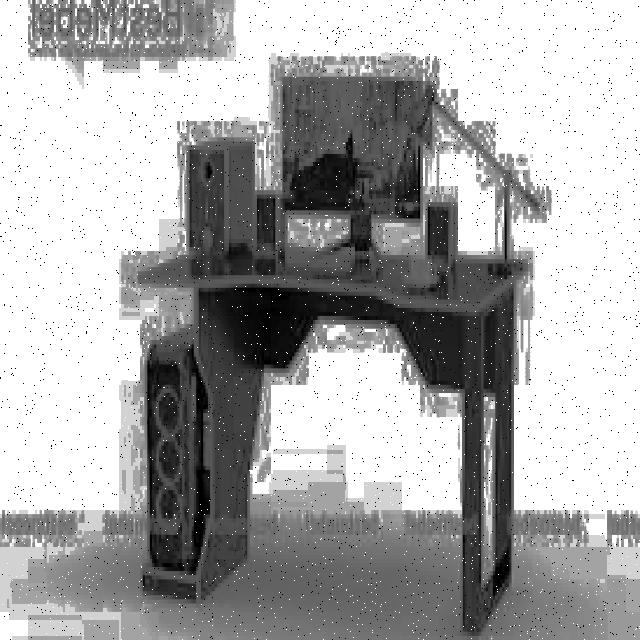table: (138, 243, 530, 636)
